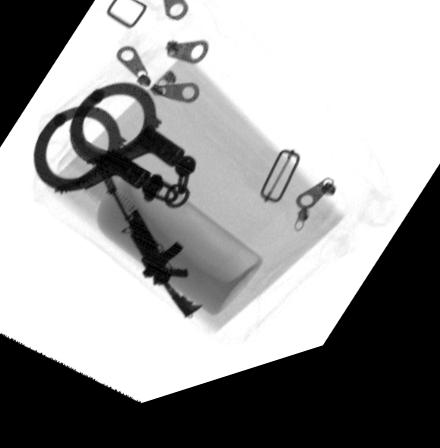Gun: (96, 171, 206, 333)
HandCuffs: (32, 88, 196, 219)
